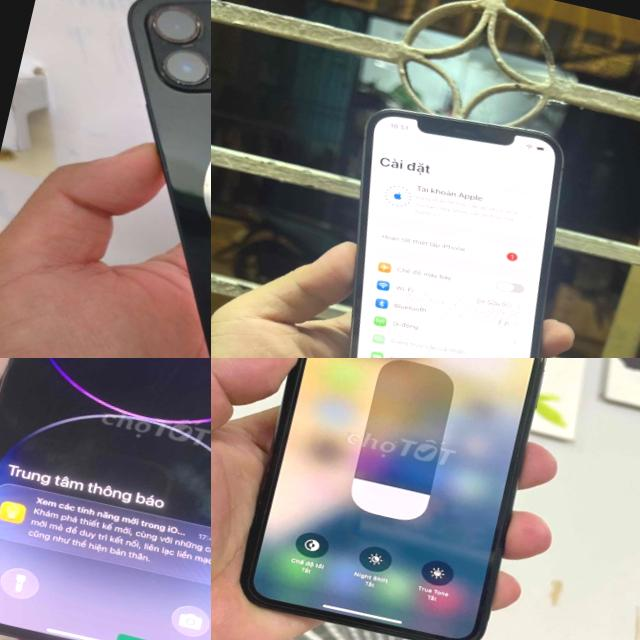gen_11: (218, 358, 581, 640)
gen_12_13: (49, 0, 211, 358), (348, 109, 562, 358)
gen_14: (0, 358, 211, 640)
